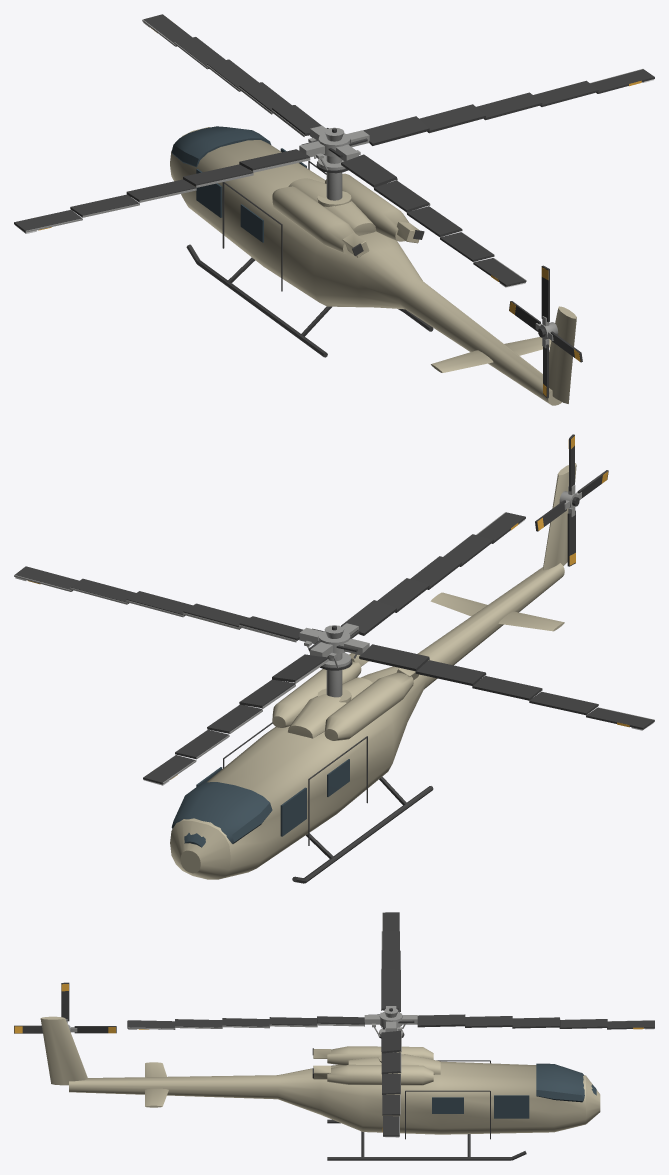
File: usa_heli_uh1y.glb
3 views of the same model, one above another, from view 1: azimuth 30°, elevation 25°; view 2: azimuth 150°, elevation 25°; view 3: azimuth 270°, elevation 25° (orthographic). The views are drawn at different scales.
Visible parts, largest first — view 1: body, rotor, trotor; view 2: body, rotor, trotor; view 3: body, rotor, trotor.
Boxes of the visible parts, x1,y1,x2,y2 form: body: (170, 126, 576, 405); rotor: (14, 14, 654, 287); trotor: (509, 265, 582, 397); body: (170, 463, 576, 883); rotor: (14, 512, 654, 785); trotor: (535, 434, 608, 566); body: (40, 1016, 600, 1160); rotor: (127, 912, 654, 1137); trotor: (14, 982, 116, 1033).
Bounding box in the file's own units: 14.89 × 4.81 × 18.1.
